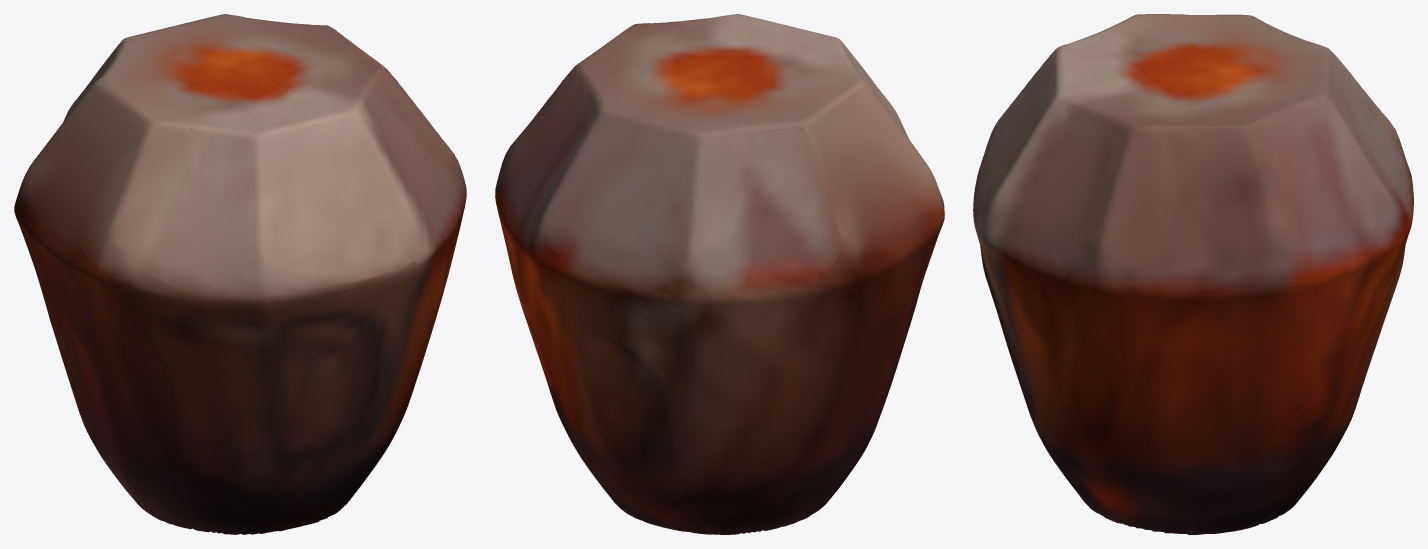
File: jarra_sabana.glb
The picture shows the model from 3 angles, left to right: view 1: azimuth 30°, elevation 25°; view 2: azimuth 150°, elevation 25°; view 3: azimuth 270°, elevation 25°; orthographic projection.
Visible parts, largest first — view 1: material.003; view 2: material.003; view 3: material.003.
Part boxes in pixels (bbox=[...]): material.003: bbox=[14, 14, 466, 534]; material.003: bbox=[495, 14, 944, 534]; material.003: bbox=[973, 14, 1413, 534].
Bounding box in the file's own units: 0.0727 × 0.076 × 0.0726.
Materials: 1 (1 with a texture image).
